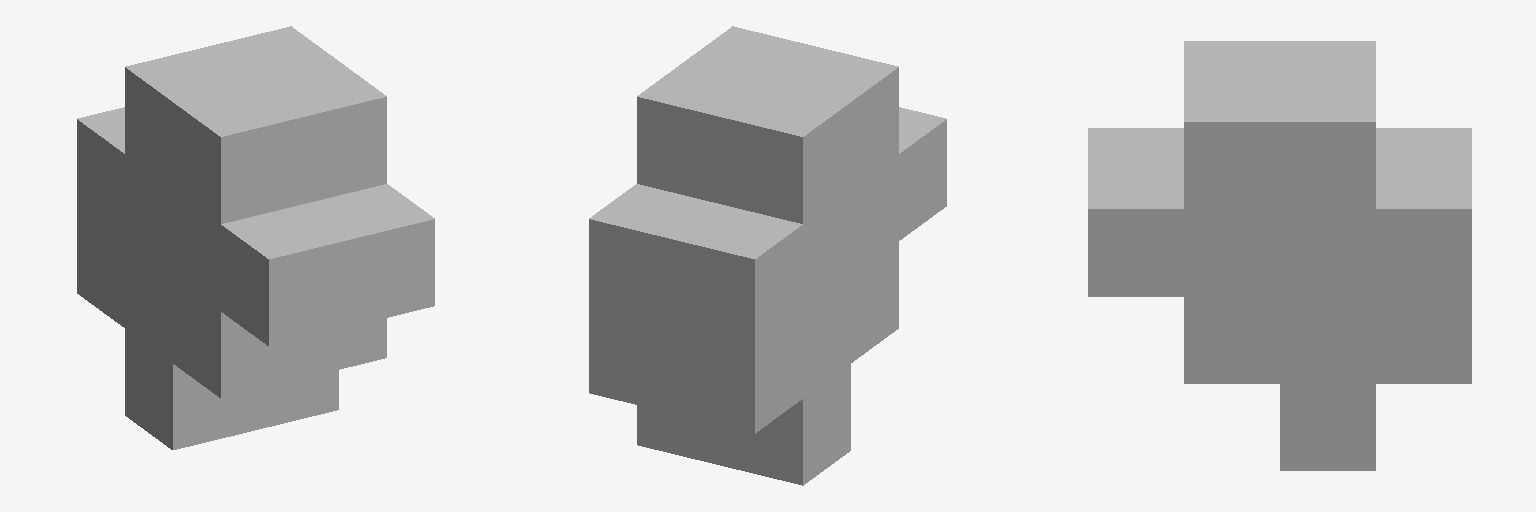
The model's file is farm-46-chicken_white.obj.
3 renders of one model, left to right at view 1: azimuth 30°, elevation 25°; view 2: azimuth 150°, elevation 25°; view 3: azimuth 270°, elevation 25°, orthographic.
Parts seen in each view (by area): view 1: chicken_white; view 2: chicken_white; view 3: chicken_white.
Part boxes in pixels (bbox=[...]): chicken_white: bbox=[77, 26, 434, 449]; chicken_white: bbox=[589, 26, 946, 485]; chicken_white: bbox=[1088, 41, 1471, 470].
Size of the model in its own units: 0.2 by 0.4 by 0.4.